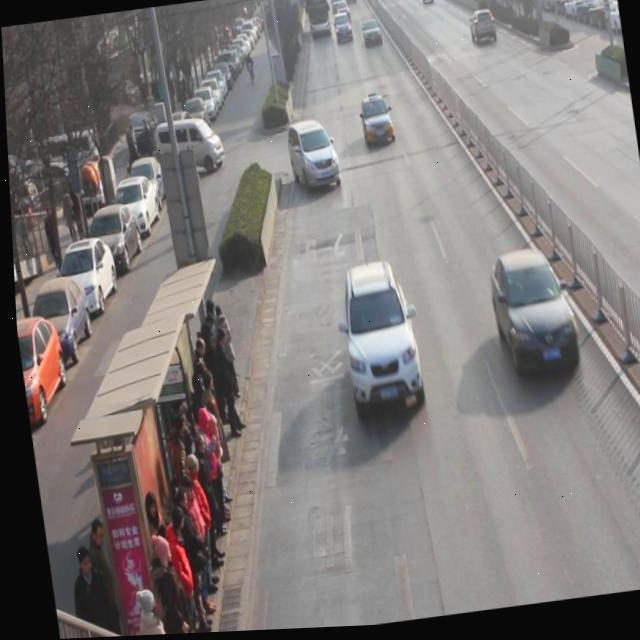car: (332, 261, 422, 423), (483, 246, 580, 389), (283, 118, 340, 197), (357, 96, 395, 151), (468, 11, 498, 51), (360, 20, 383, 51)
